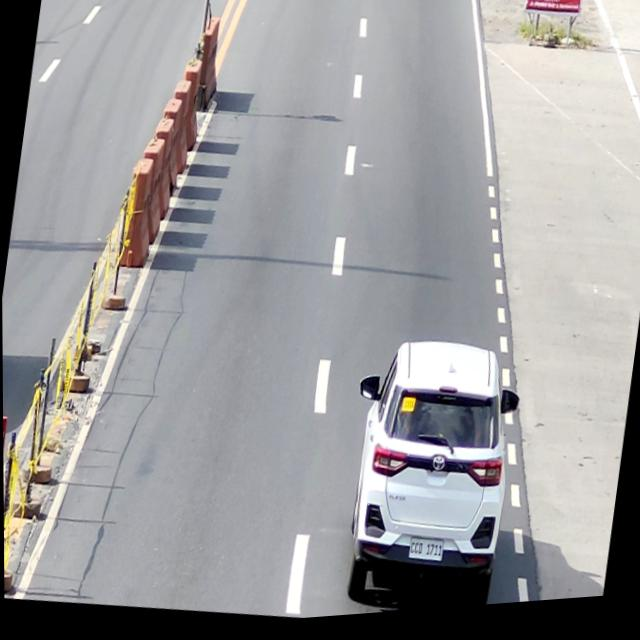Car: (328, 331, 528, 621)
License-Plate: (406, 539, 445, 571)
